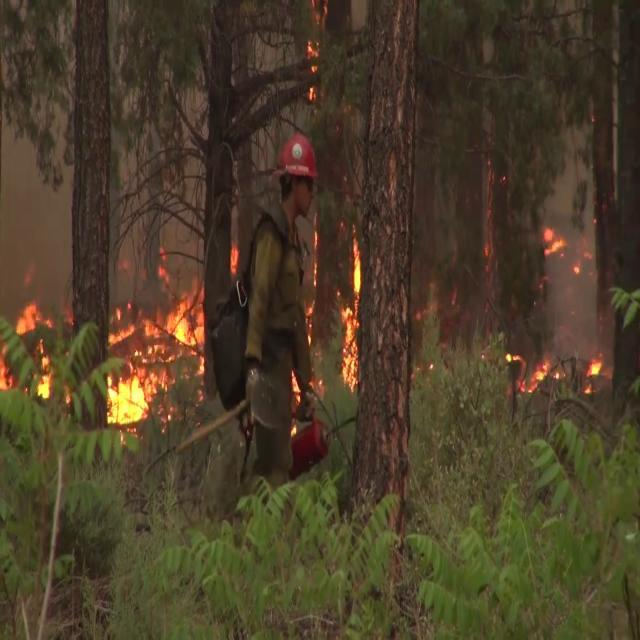Fire: (104, 279, 205, 437), (0, 296, 60, 404), (104, 355, 160, 433), (338, 230, 364, 394), (583, 348, 607, 387)
Smoke: (530, 111, 608, 357), (0, 98, 76, 322)
